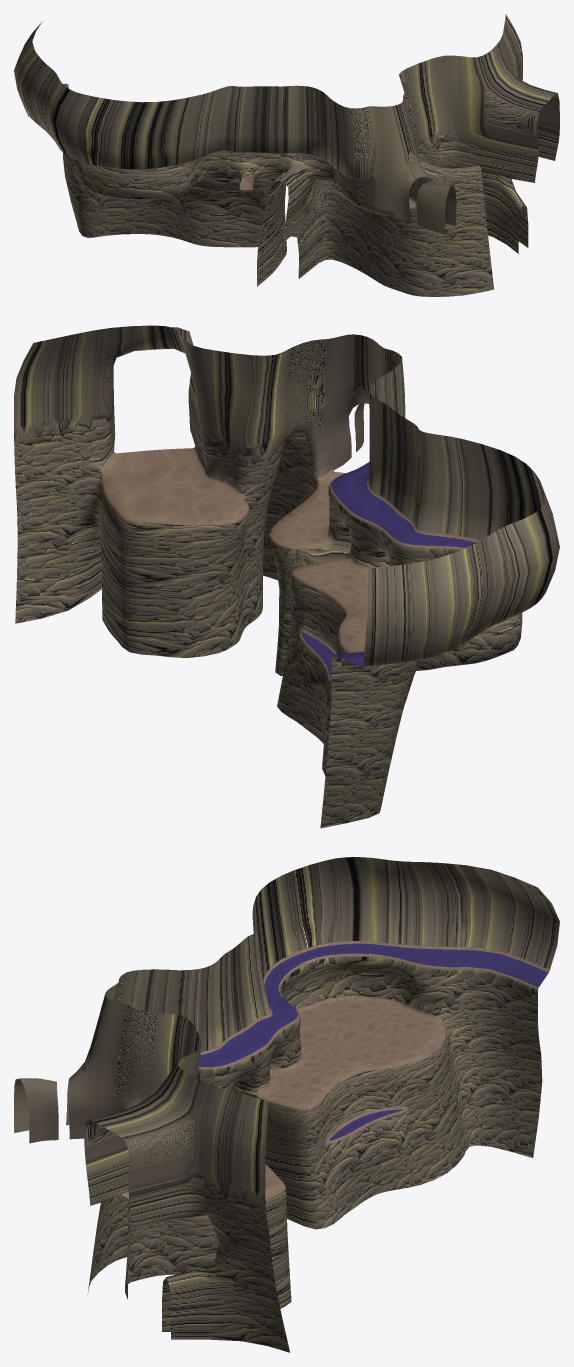
File: Hub.FBX
The picture shows the model from 3 angles, top to bottom: view 1: azimuth 30°, elevation 25°; view 2: azimuth 150°, elevation 25°; view 3: azimuth 270°, elevation 25°; orthographic projection. The views are drawn at different scales.
Parts seen in each view (by area): view 1: Hub; view 2: Hub; view 3: Hub.
Part boxes in pixels (x1,y1,x2,y2): Hub: [14, 14, 559, 296]; Hub: [14, 325, 559, 828]; Hub: [14, 857, 559, 1352].
Size of the model in its own units: 94.66 by 42.12 by 83.76.
